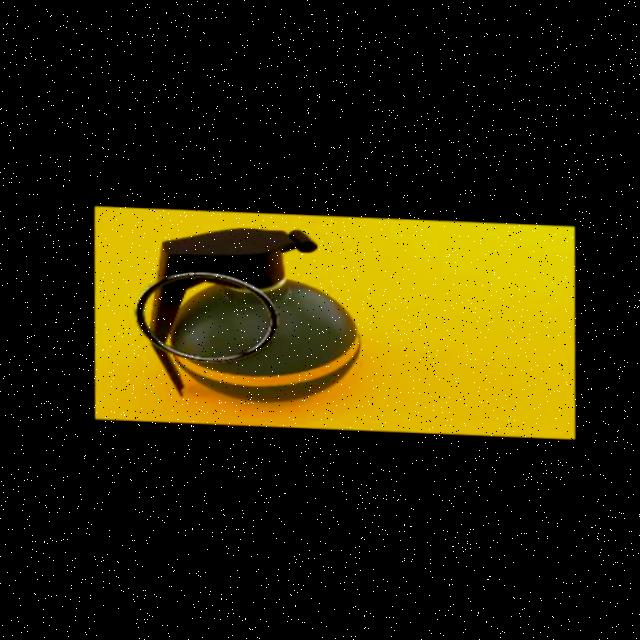grenade: (113, 214, 373, 409)
